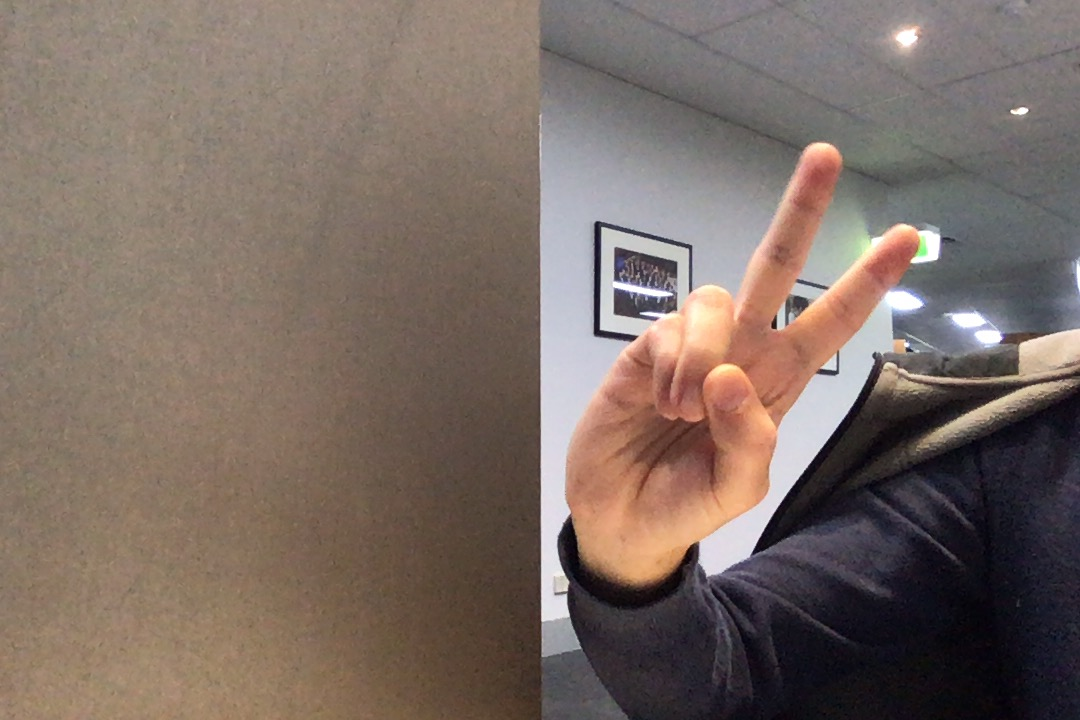peacesign: (545, 123, 938, 563)
